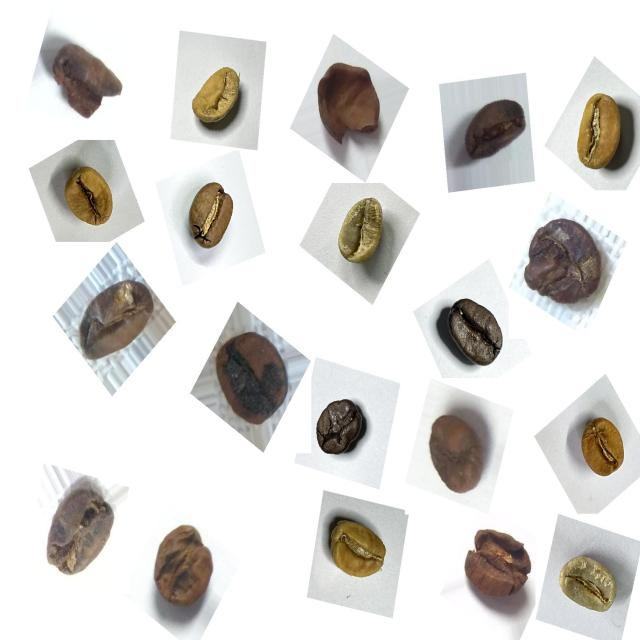bad: (34, 471, 125, 591), (516, 209, 613, 320), (203, 320, 295, 435), (73, 271, 161, 376), (146, 512, 226, 621), (306, 50, 392, 150), (417, 399, 494, 505), (44, 34, 128, 128), (457, 520, 540, 615), (457, 87, 533, 178)
dark: (432, 288, 513, 381), (307, 384, 375, 468)
green: (551, 546, 630, 630), (326, 186, 396, 278)
light: (564, 85, 638, 184), (317, 506, 397, 596), (182, 55, 253, 141), (52, 157, 122, 240), (567, 408, 634, 490)
medium: (177, 172, 246, 261)
